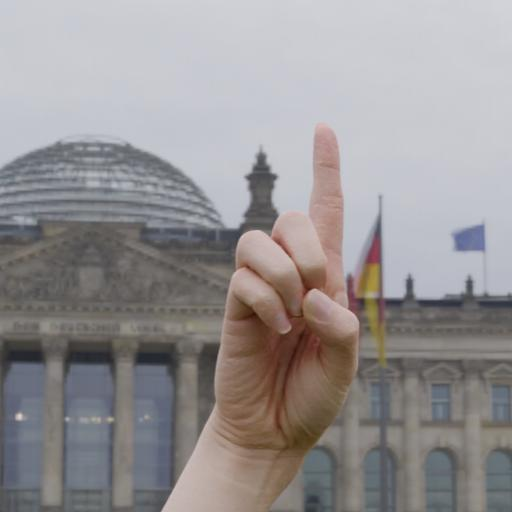D: (213, 121, 365, 447)
